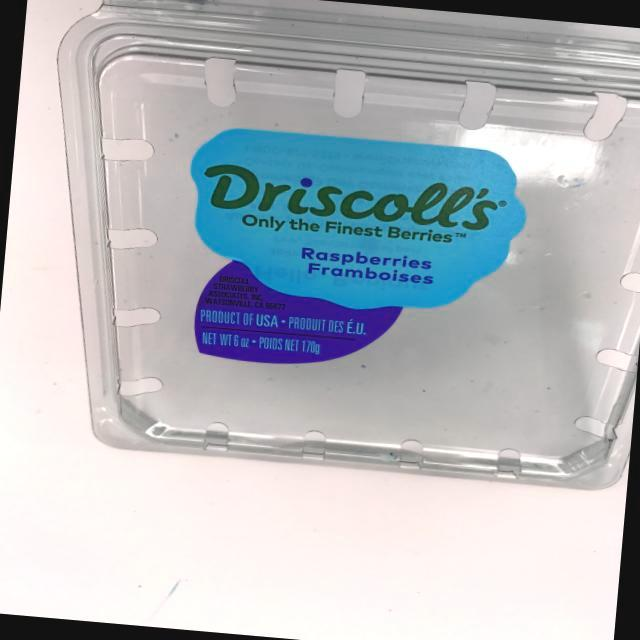plastic: (3, 0, 640, 508)
